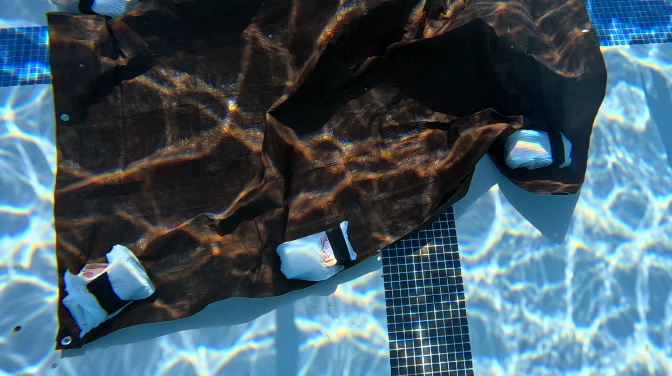sandbag: (45, 0, 607, 350)
